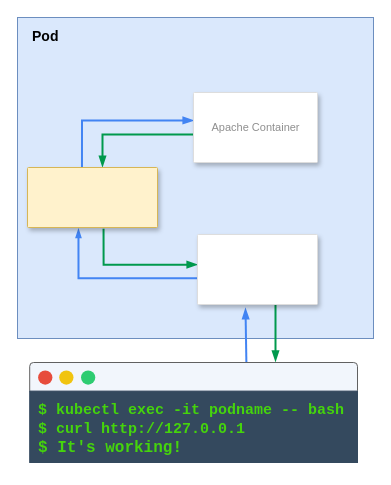
Some shapes in this 391 by 485 pixel diagram are drawn without their labels. Here are the shapes that lost their labels. From the top down, the centre of each, then its label:
At [93,198]: "Loopback Interface (127.0.0.1)".
At [258,271]: "CentOS Container".
